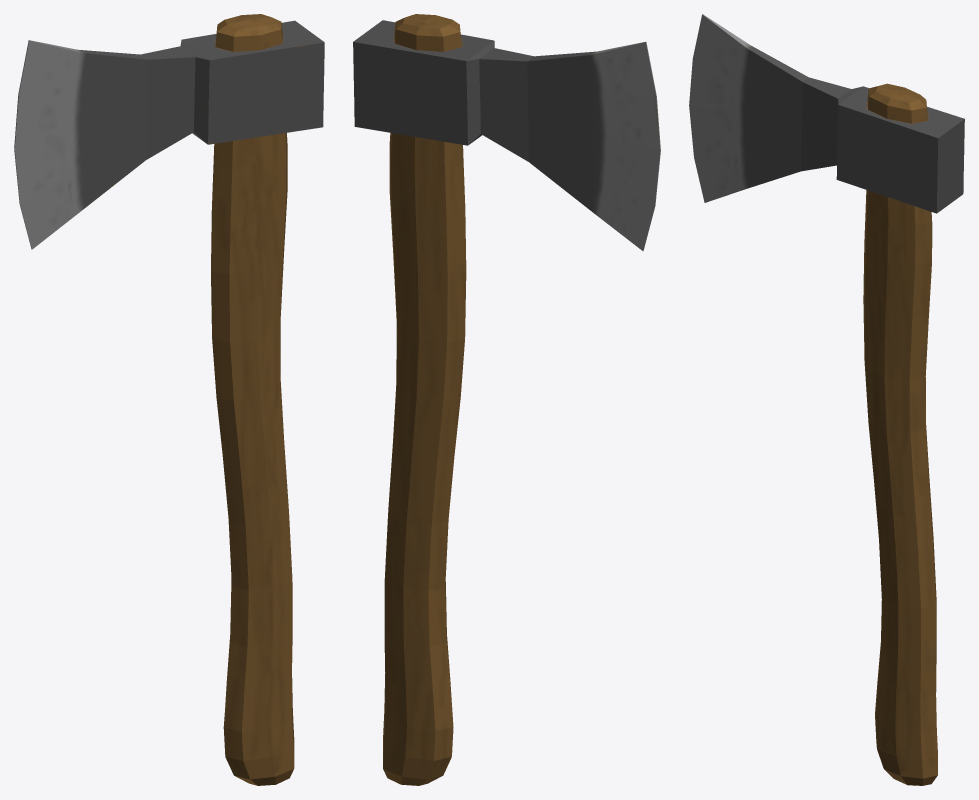
The model's file is wood axe.glb.
3 views of the same model, side by side, from view 1: azimuth 30°, elevation 25°; view 2: azimuth 150°, elevation 25°; view 3: azimuth 330°, elevation 25° (orthographic). The views are drawn at different scales.
Visible parts, largest first — view 1: Axe; view 2: Axe; view 3: Axe.
Boxes of the visible parts, x1,y1,x2,y2 form: Axe: [14, 14, 324, 785]; Axe: [353, 14, 660, 785]; Axe: [689, 14, 964, 785].
Size of the model in its own units: 6.28 by 16.31 by 1.1.
1 material, 1 textured.
